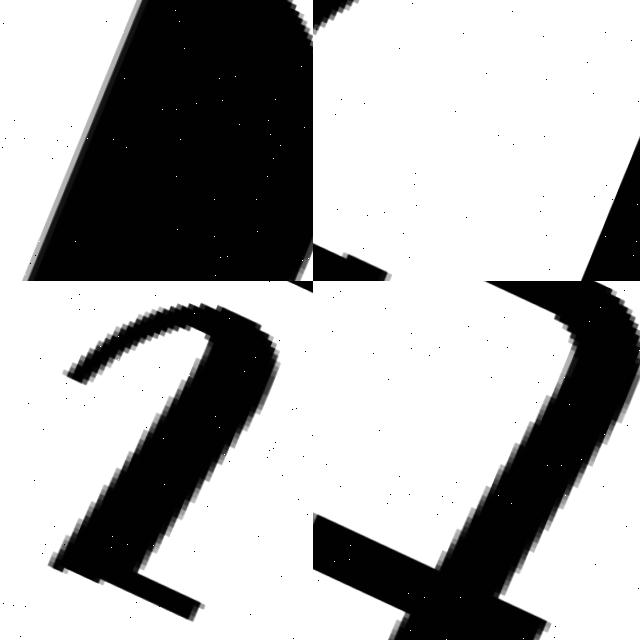7: (313, 0, 567, 281)
C: (23, 0, 313, 281)
I: (0, 281, 313, 640)
T: (313, 281, 640, 640)
